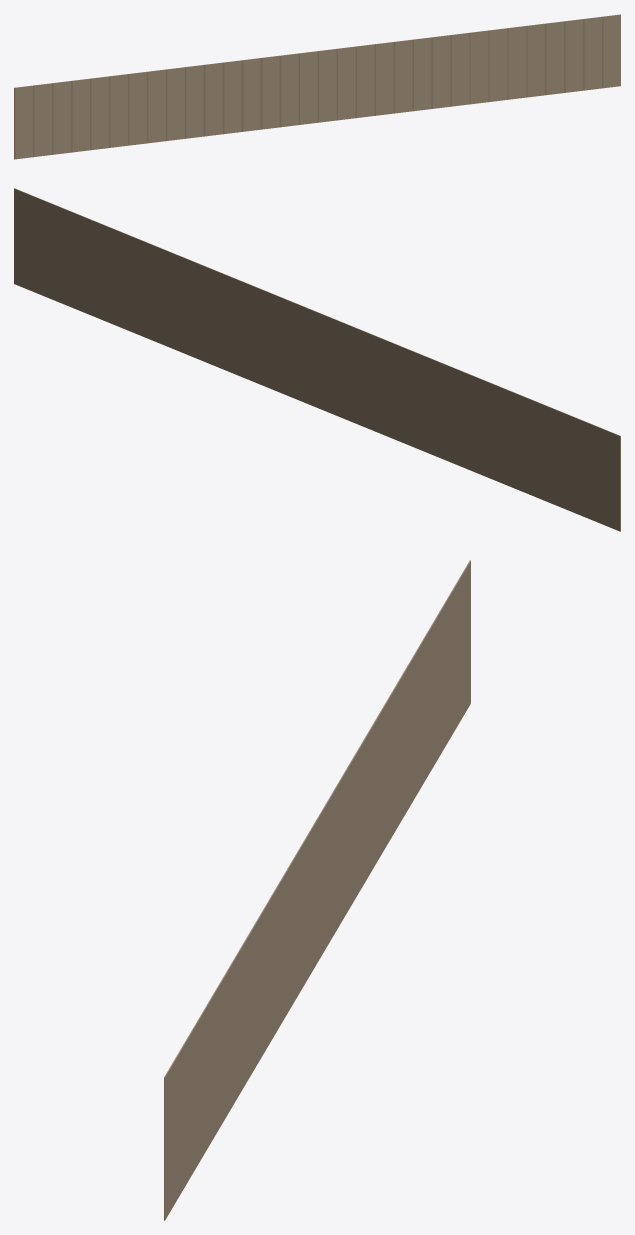
Rendered from grade.glb.
3 views of the same model, one above another, from view 1: azimuth 30°, elevation 25°; view 2: azimuth 150°, elevation 25°; view 3: azimuth 270°, elevation 25° (orthographic). The views are drawn at different scales.
Visible parts, largest first — view 1: part0; view 2: part0; view 3: part0.
Boxes of the visible parts, left/top/right/bottom form: part0: left=14, top=14, right=620, bottom=159; part0: left=14, top=188, right=620, bottom=531; part0: left=164, top=560, right=470, bottom=1220.
Bounding box in the file's own units: 155 × 20 × 38.95.
